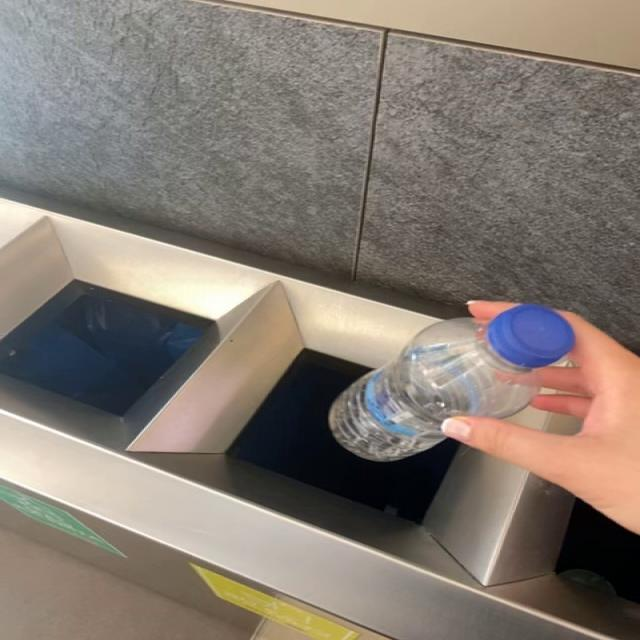plastic: (329, 304, 576, 462)
